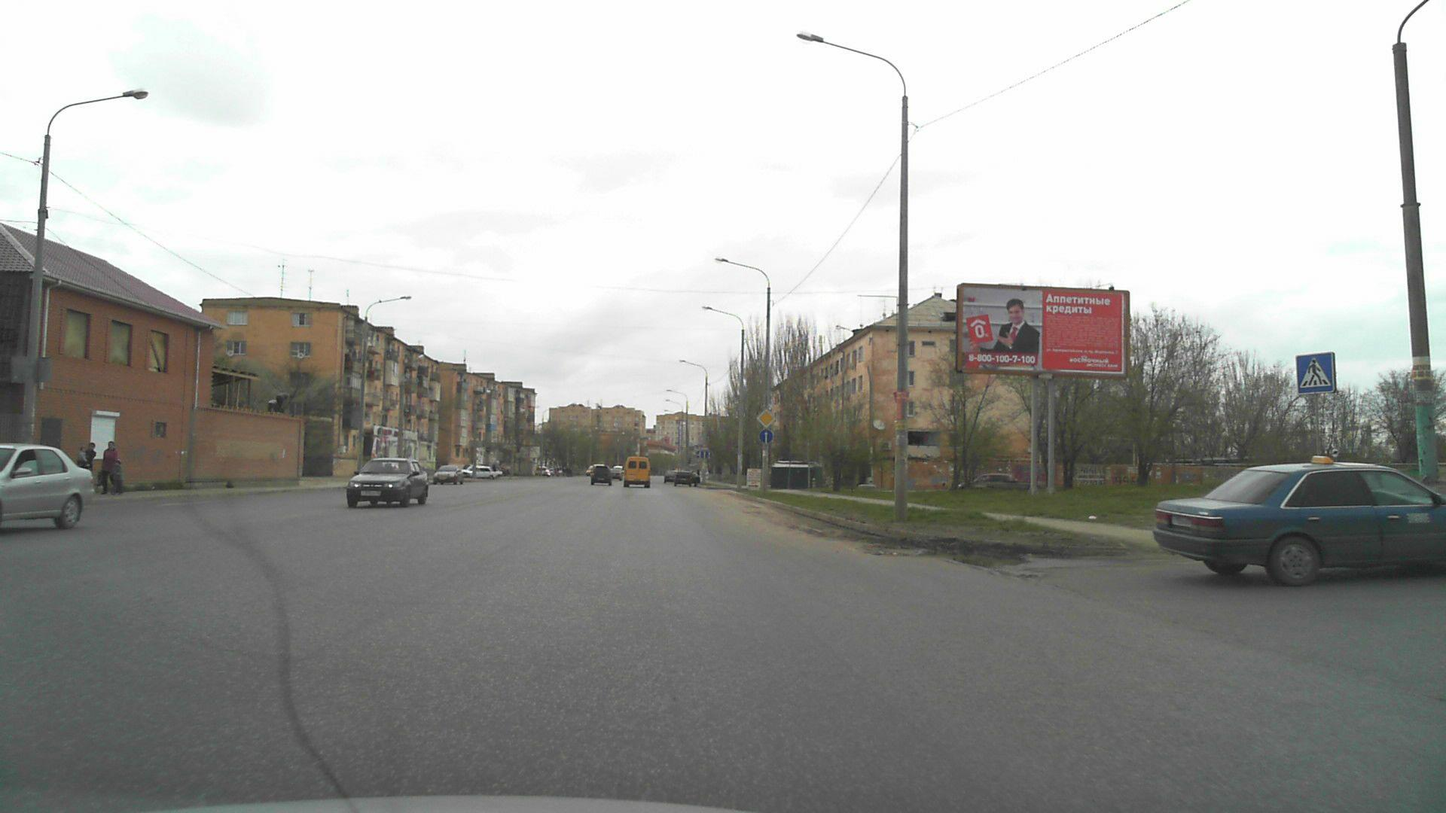road_sign: (1294, 352, 1336, 393), (756, 408, 777, 428), (758, 429, 774, 444)
